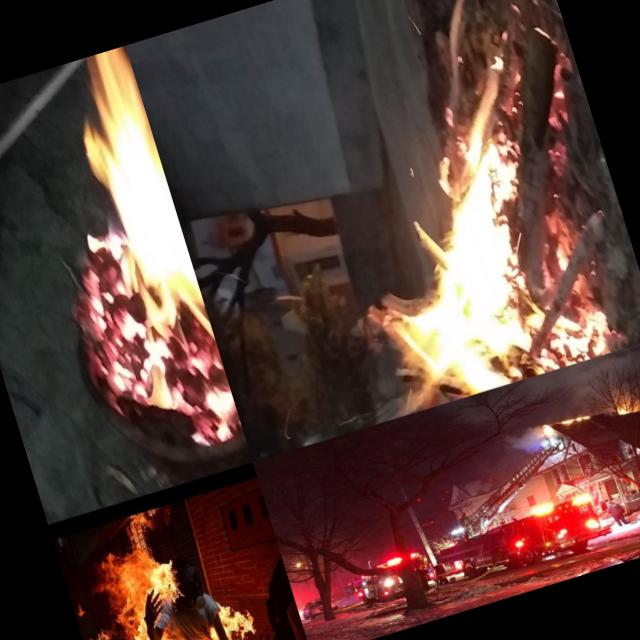fire: (8, 45, 250, 489), (228, 168, 496, 448), (92, 543, 153, 640), (123, 530, 184, 610), (216, 592, 267, 640), (122, 500, 176, 540), (125, 623, 231, 640), (80, 621, 119, 640), (558, 409, 594, 428), (612, 399, 638, 419), (71, 598, 89, 622), (540, 421, 557, 440)
smoke: (531, 344, 640, 427), (504, 424, 546, 462)
